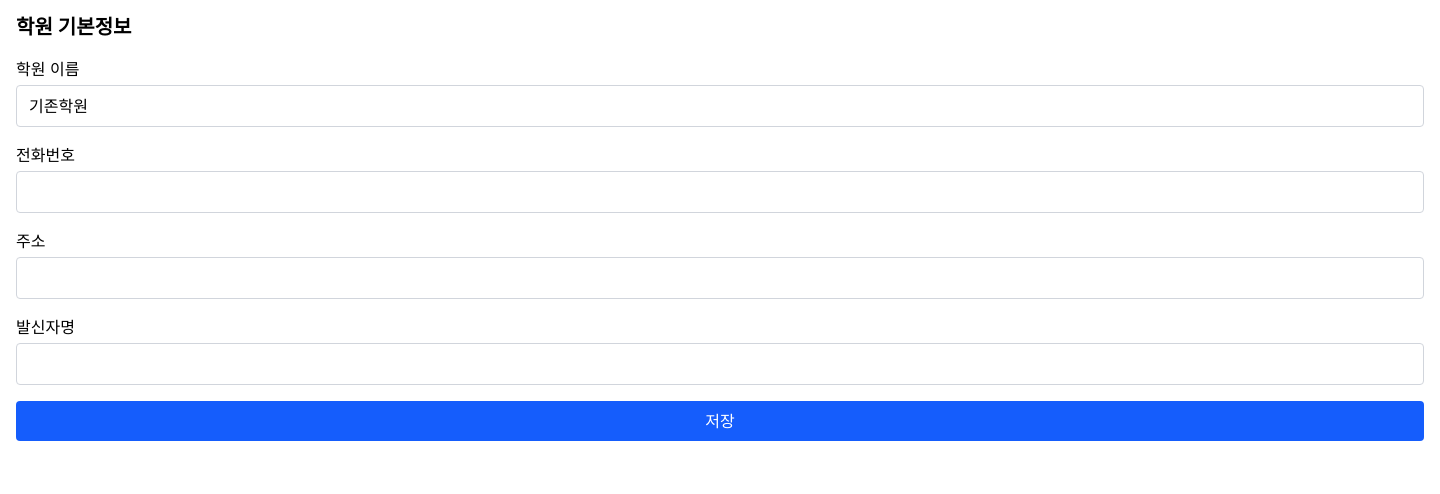
it: AcademySettingsPage › loads and displays the current academy settings, then saves an edit
Replace the text in the field labelled "학원 이름" with "새이름학원": [720, 106] box top-left (16, 85), bottom-right (1424, 127)
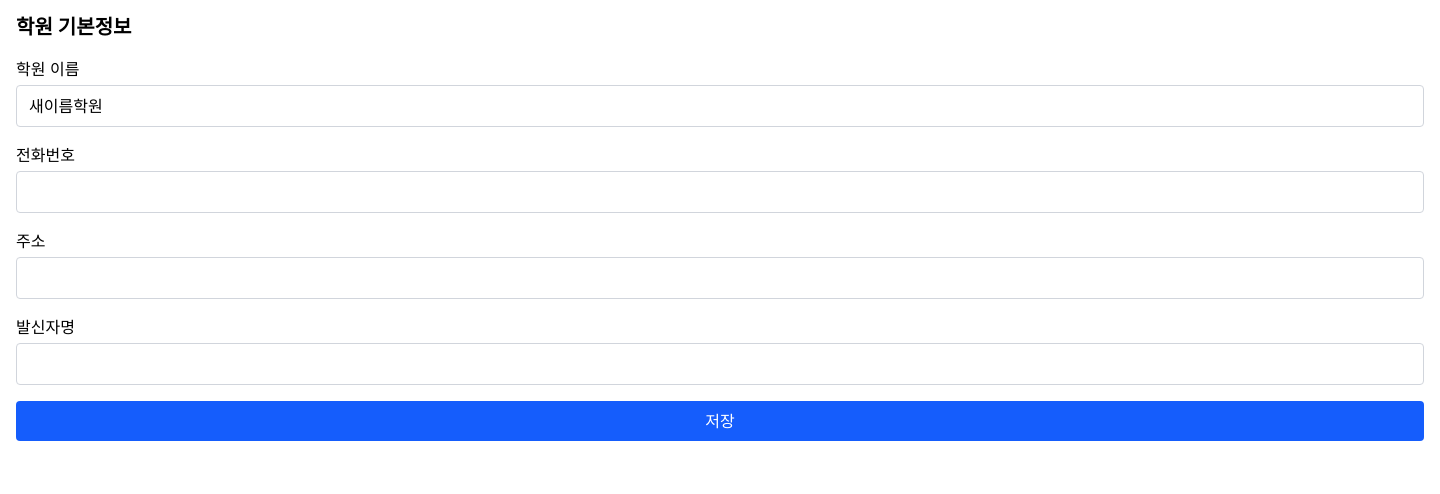
Click the button "저장": [720, 421] box top-left (16, 401), bottom-right (1424, 441)
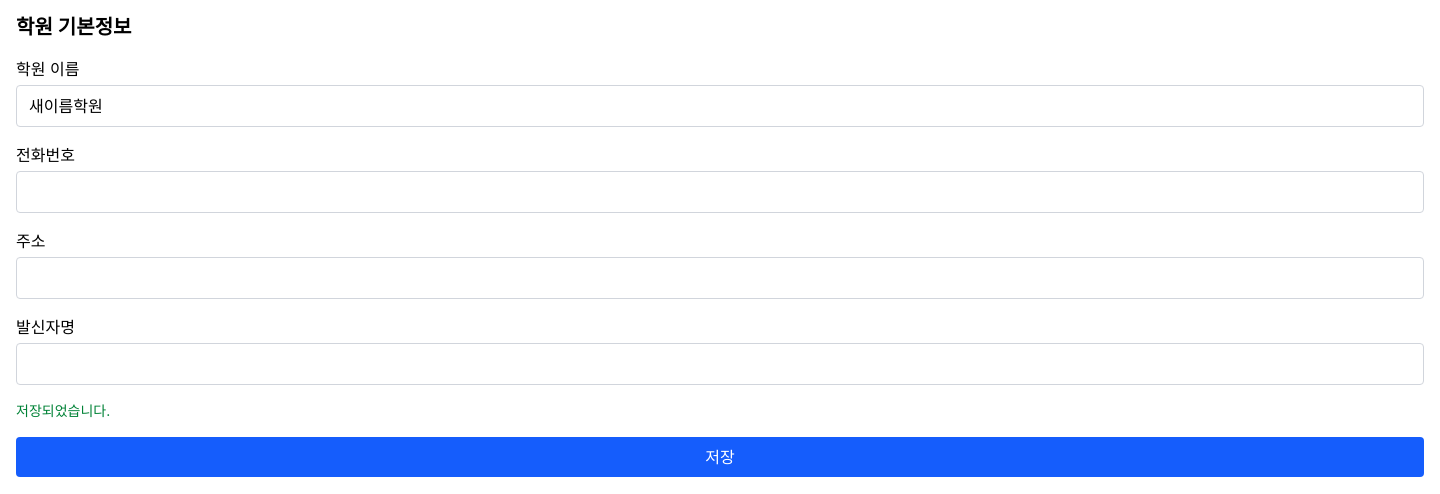
Expected: the text "저장되었습니다." is shown, top-left (16, 402), bottom-right (110, 419)
